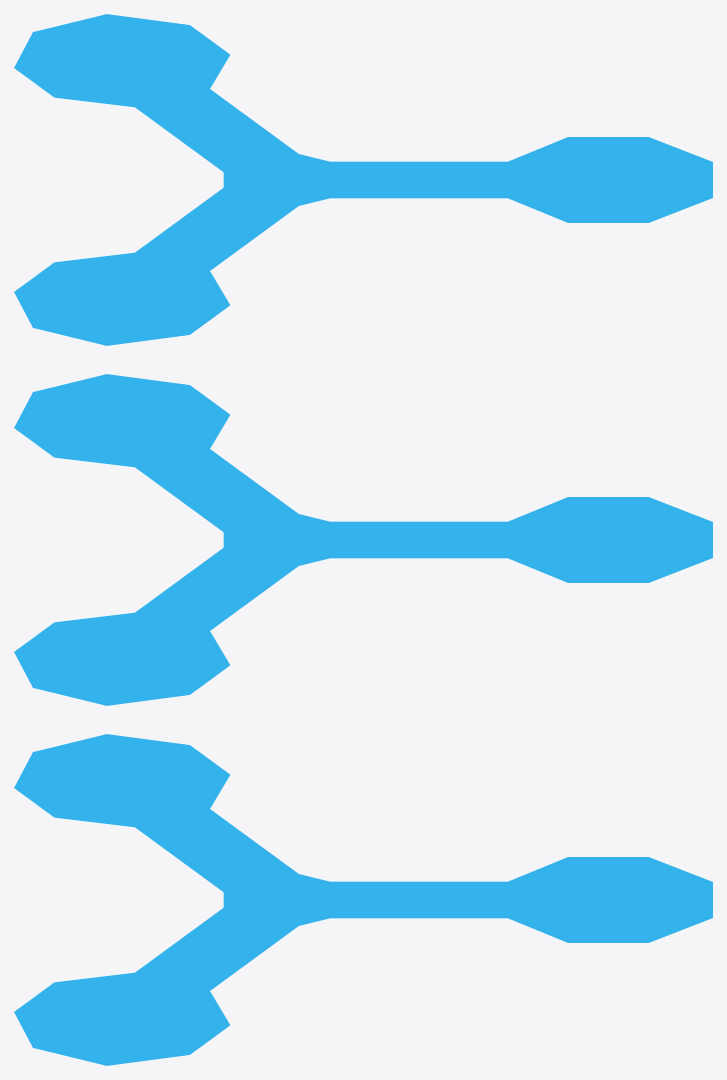
Rendered from hieroglyph_003.glb.
3 renders of one model, top to bottom at view 1: azimuth 30°, elevation 25°; view 2: azimuth 150°, elevation 25°; view 3: azimuth 270°, elevation 25°, orthographic.
Visible parts, largest first — view 1: hieroglyph_003; view 2: hieroglyph_003; view 3: hieroglyph_003.
Part boxes in pixels (bbox=[...]): hieroglyph_003: bbox=[14, 14, 712, 345]; hieroglyph_003: bbox=[14, 374, 712, 705]; hieroglyph_003: bbox=[14, 734, 712, 1065].
Size of the model in its own units: 0.6813 by 0 by 0.6065.
1 material, 1 textured.
